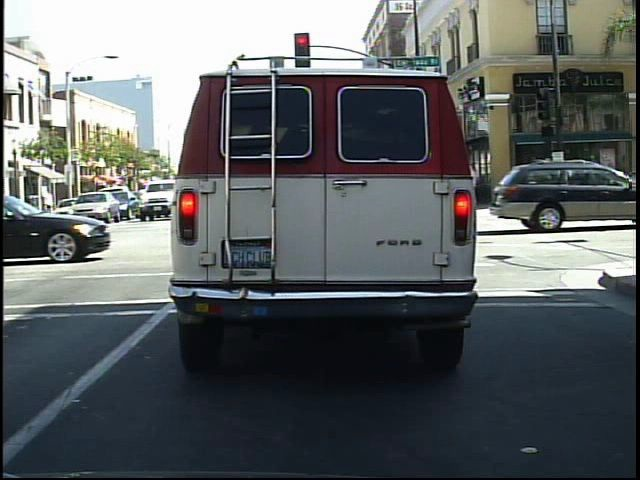person: (537, 154, 561, 211), (545, 147, 567, 209), (514, 157, 538, 210), (561, 157, 582, 208)
